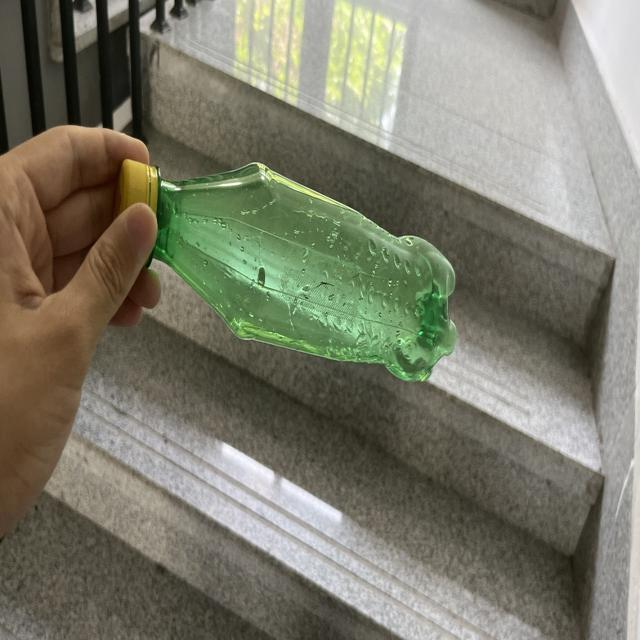empty: (114, 160, 456, 380)
